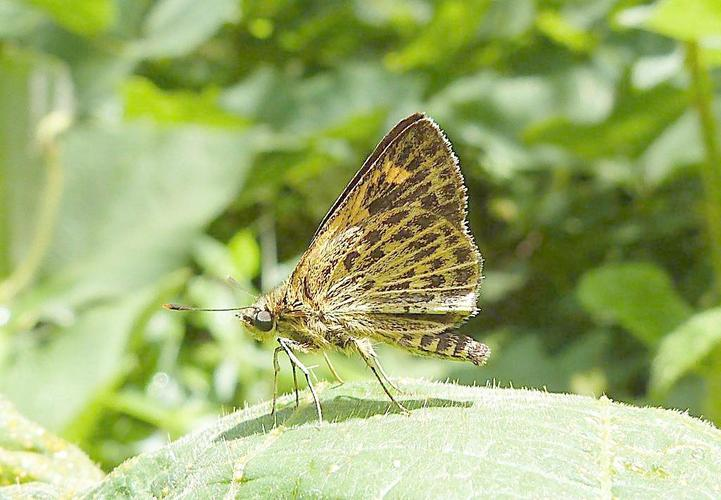Hesperiidae: (161, 101, 490, 418)
